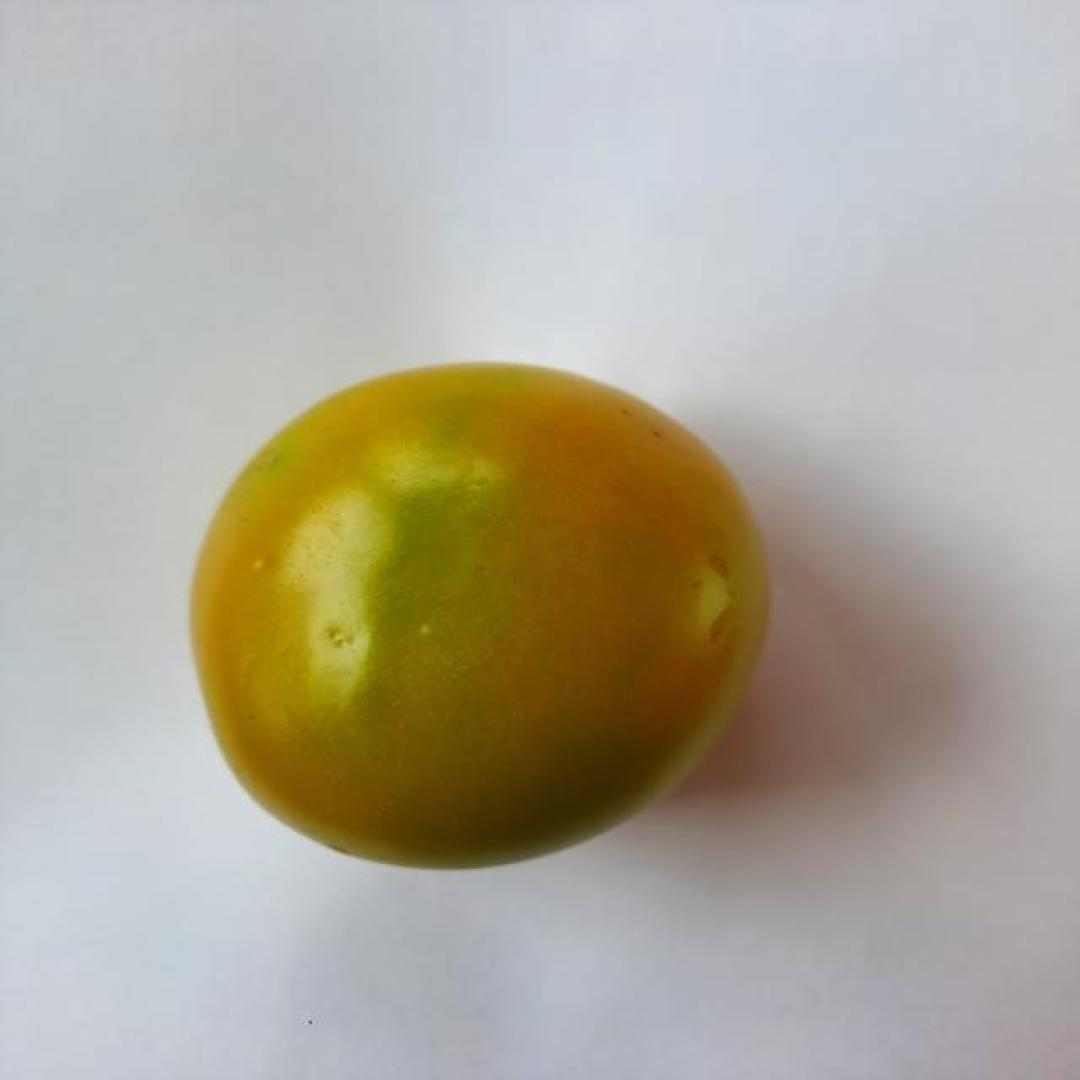setengah_matang: (184, 356, 780, 876)
